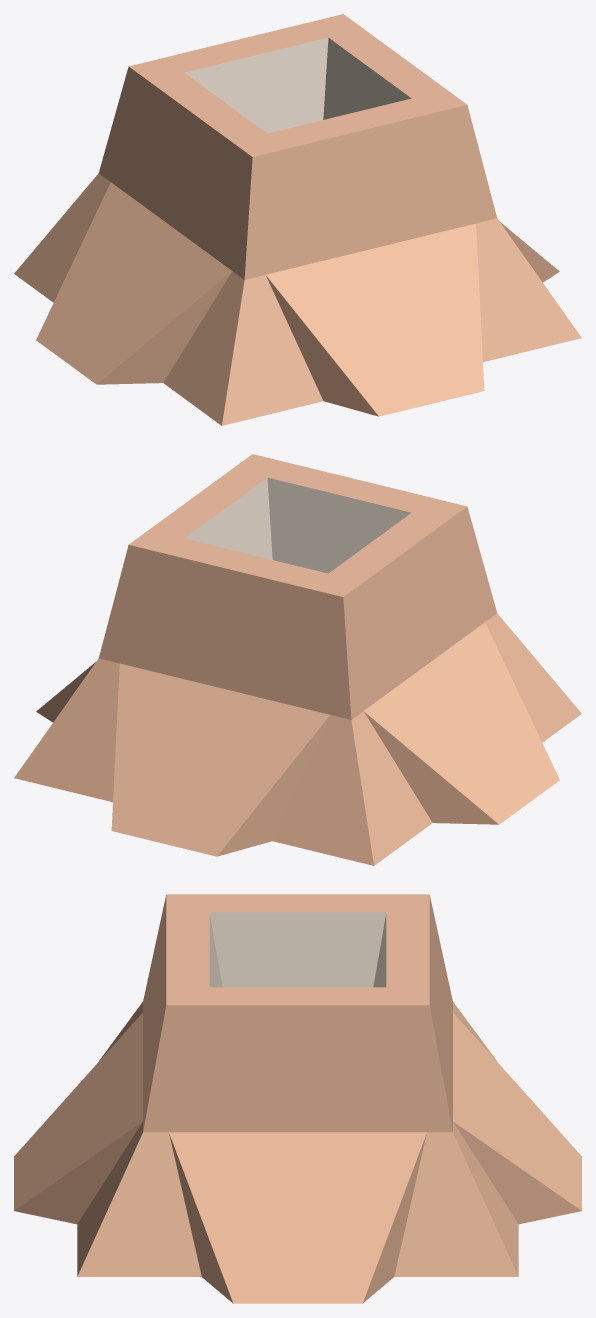
Rendered from stump_squareDetailed.glb.
3 views of the same model, one above another, from view 1: azimuth 30°, elevation 25°; view 2: azimuth 150°, elevation 25°; view 3: azimuth 270°, elevation 25° (orthographic). The views are drawn at different scales.
Parts seen in each view (by area): view 1: stump_squareDetailed; view 2: stump_squareDetailed; view 3: stump_squareDetailed.
Part boxes in pixels (box(x1,y1,x2,y2)): stump_squareDetailed: box(14, 14, 581, 425); stump_squareDetailed: box(14, 454, 581, 865); stump_squareDetailed: box(14, 894, 581, 1303).
Bounding box in the file's own units: 0.528 × 0.24 × 0.528.
